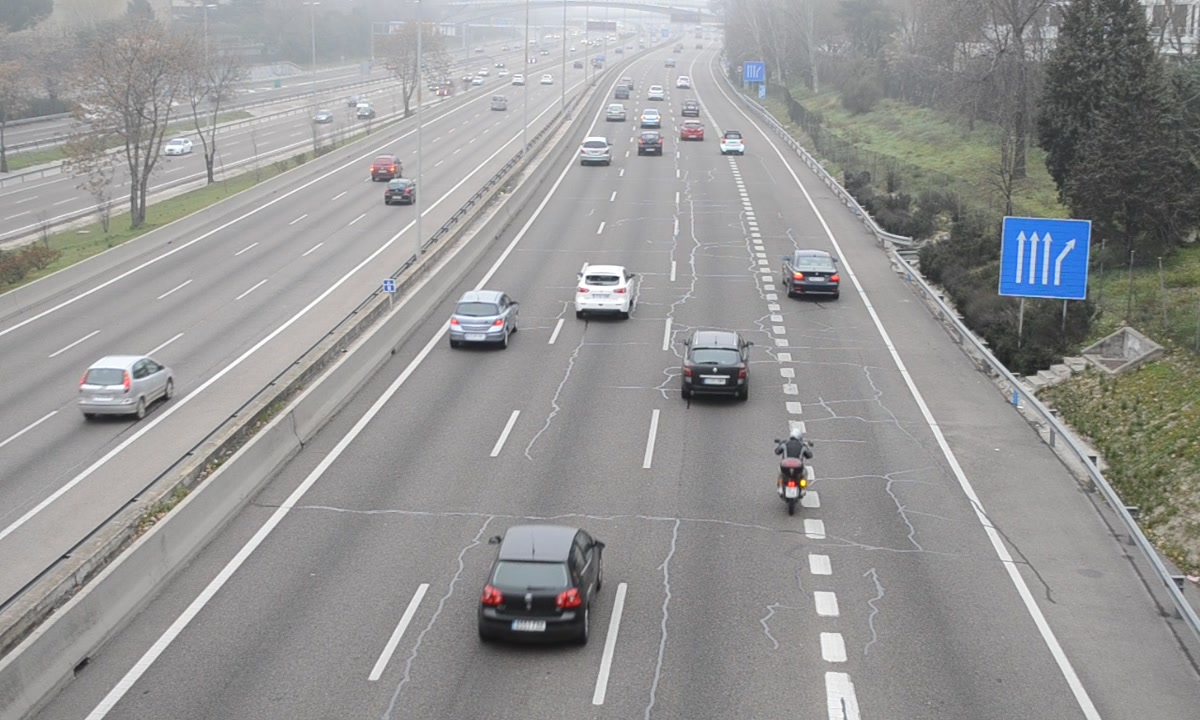car: (479, 526, 599, 648), (681, 330, 750, 401), (448, 290, 518, 343), (575, 265, 636, 314), (784, 250, 840, 296), (579, 135, 612, 167), (720, 129, 744, 156), (639, 130, 663, 157), (680, 119, 706, 143)
motorcycle: (773, 430, 815, 512)
